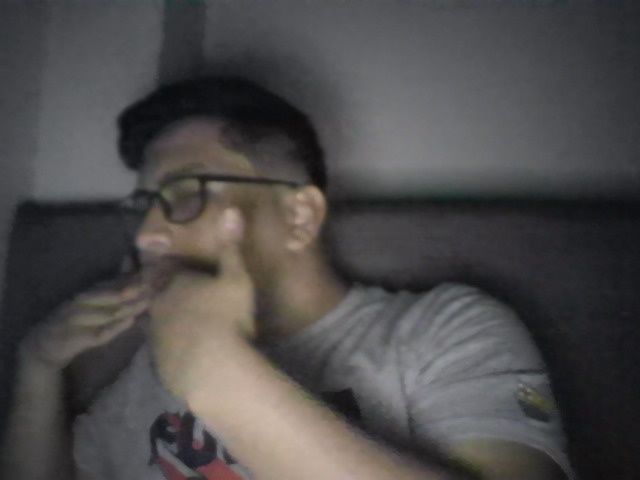Thanks: (11, 203, 271, 420)
